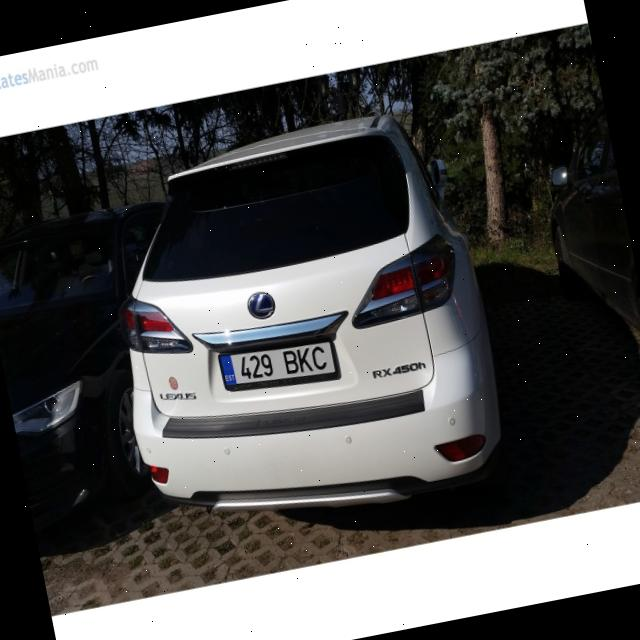License-plate: (216, 336, 345, 402)
